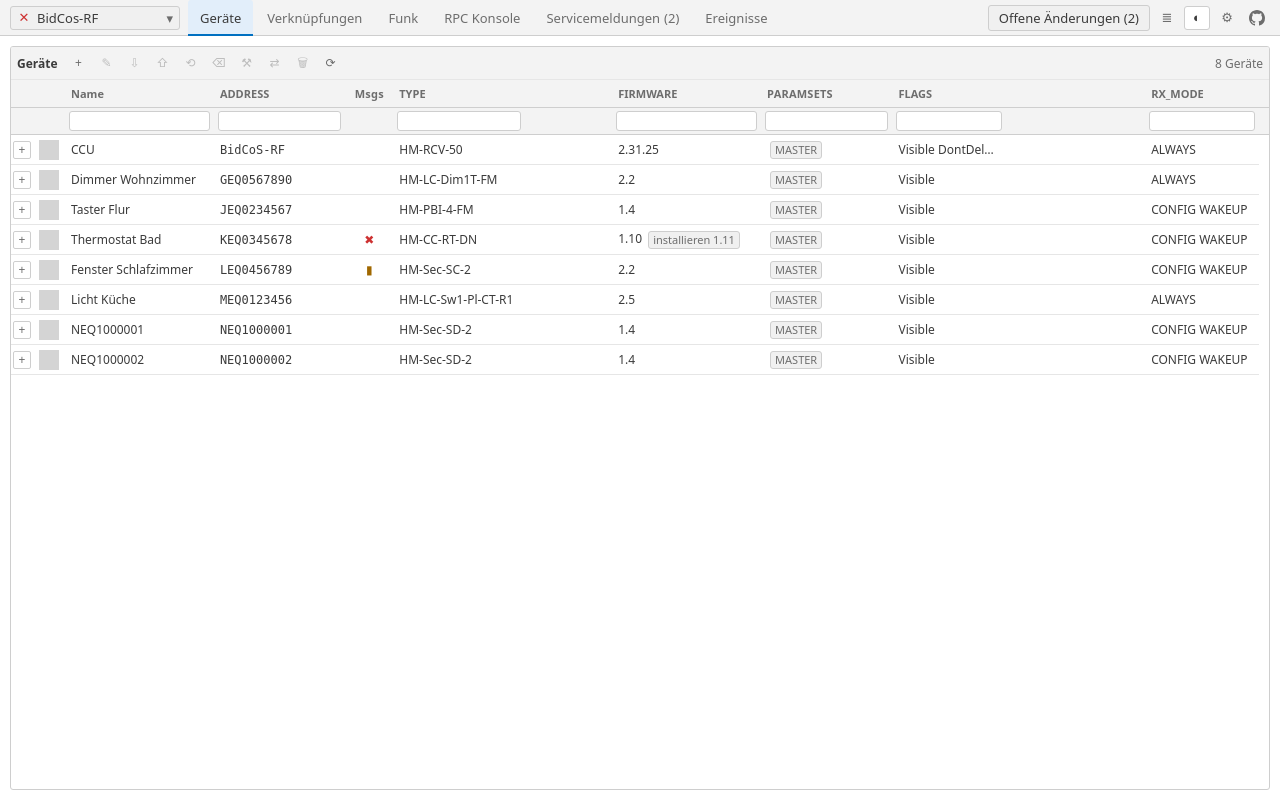
Test case: the change set (#124) › can drop one entry and discard the whole set
The image size is (1280, 800).
Click the button with test id "change-set-open" at (1069, 18), box left=988, top=4, right=1150, bottom=30
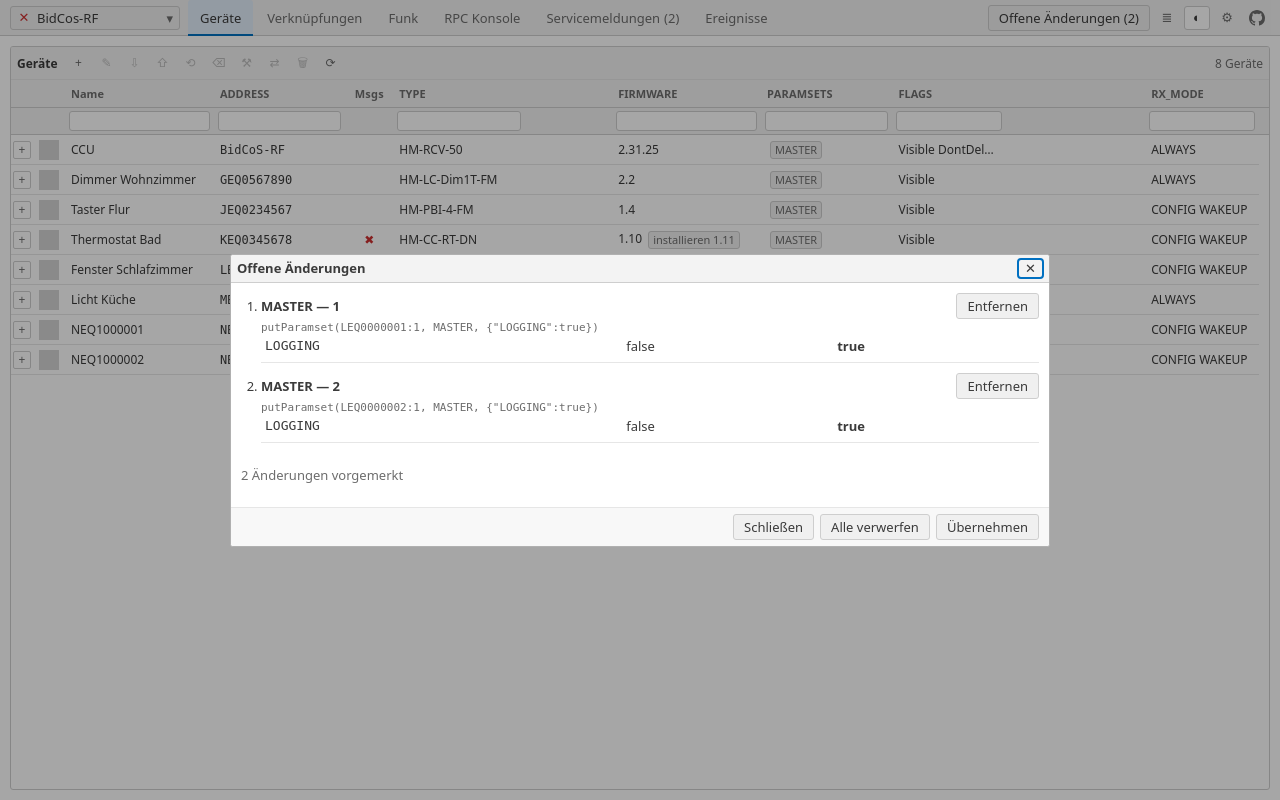
Click the button "Entfernen" in the row of "MASTER — 1" at (998, 306), box left=956, top=292, right=1039, bottom=318
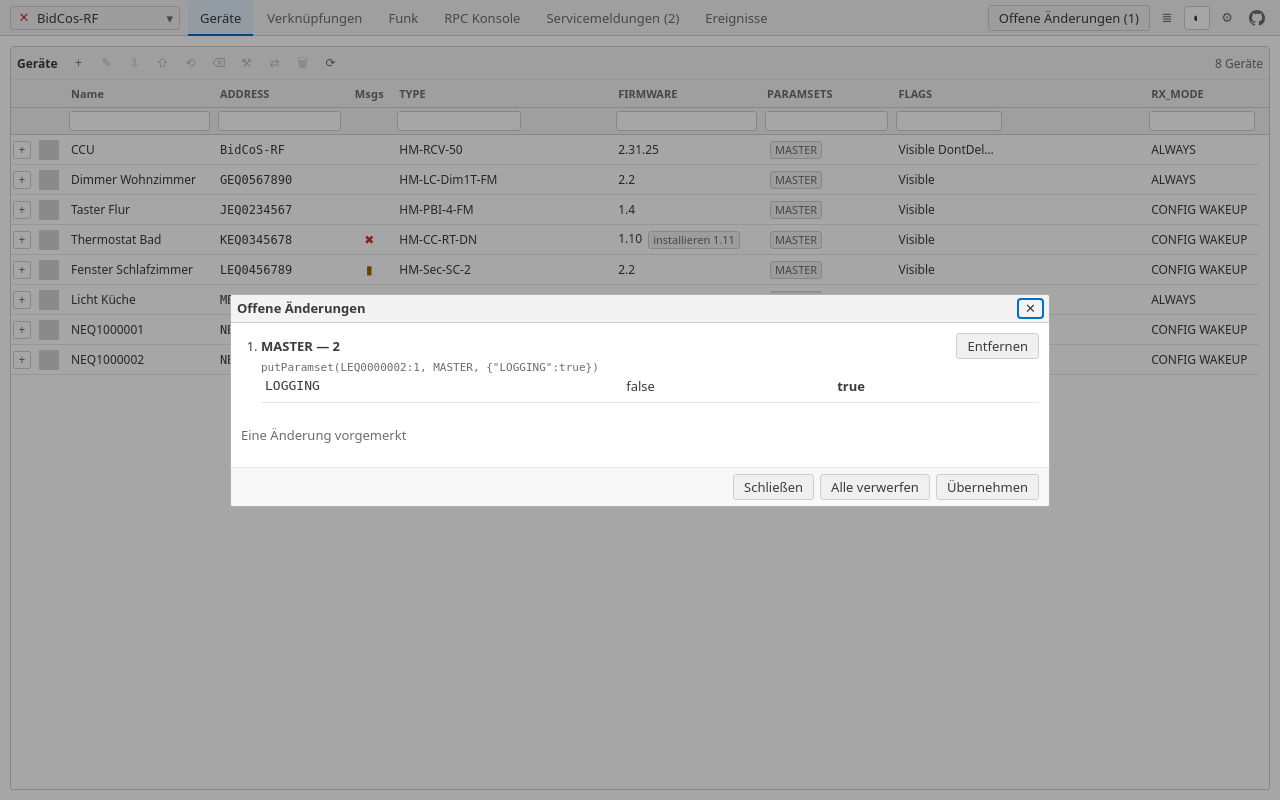
Click the button with test id "change-set-clear" at (875, 486), box left=820, top=474, right=930, bottom=500
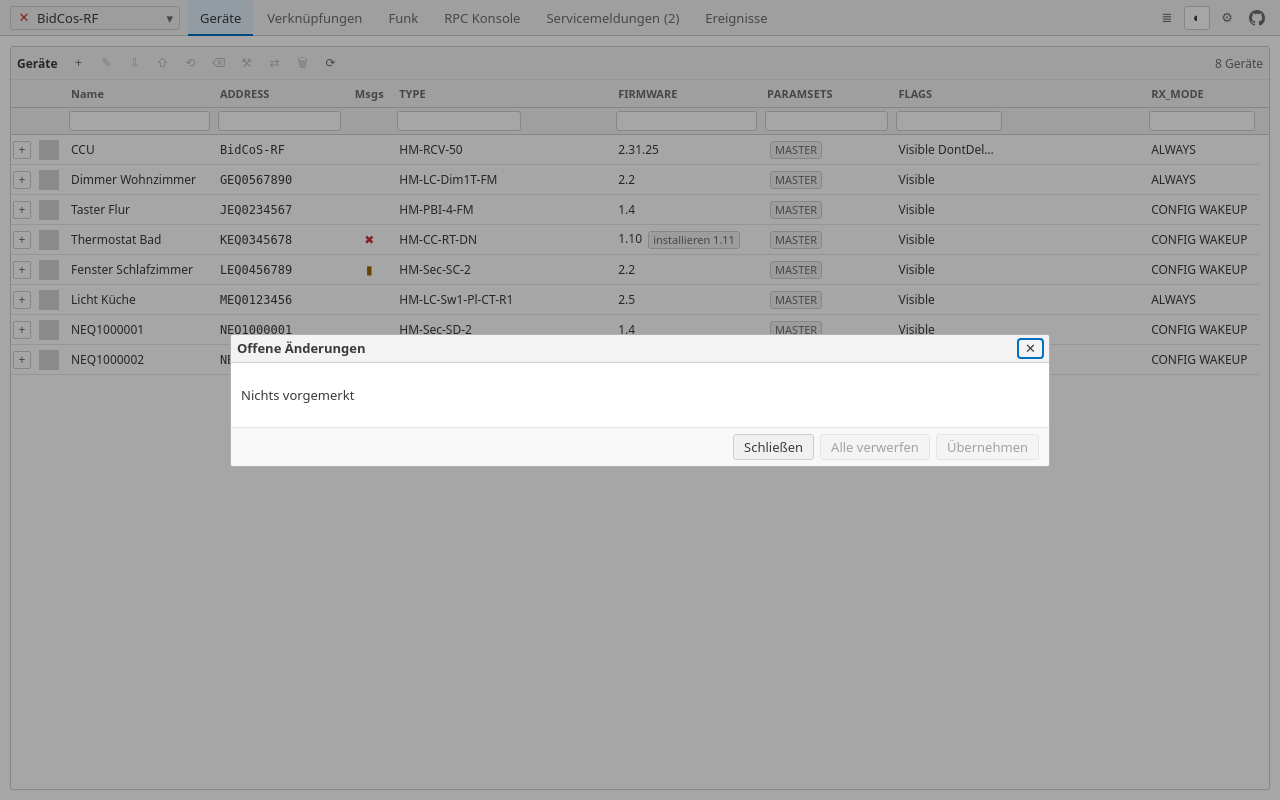
Expected: the text "Nichts vorgemerkt" is shown, left=241, top=386, right=354, bottom=404
